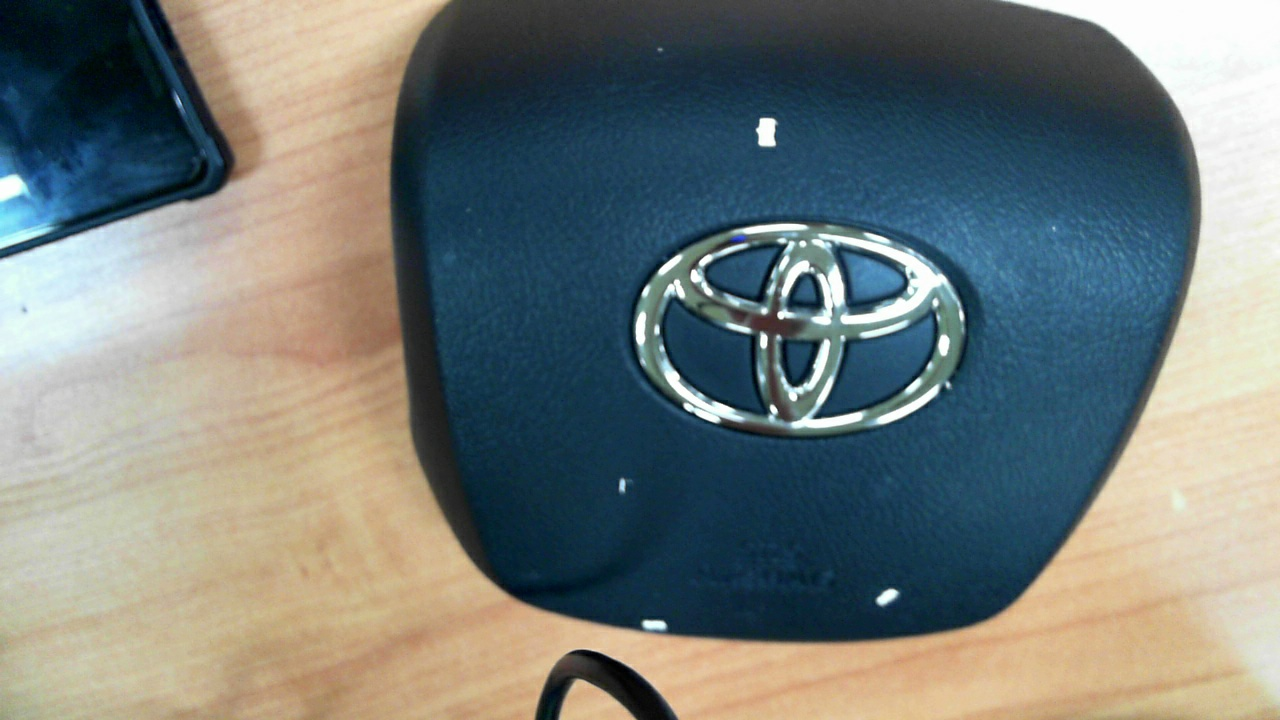Airbag: (388, 0, 1203, 643)
Mark: (756, 117, 778, 147), (875, 588, 900, 607), (641, 619, 669, 631), (618, 477, 627, 495), (1052, 225, 1056, 231), (658, 47, 663, 51)
